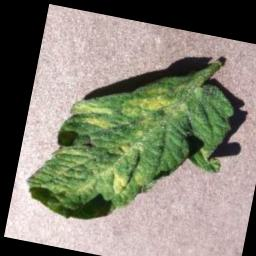Leaf_Mold: (119, 81, 182, 126), (67, 98, 118, 131), (107, 166, 132, 201)
